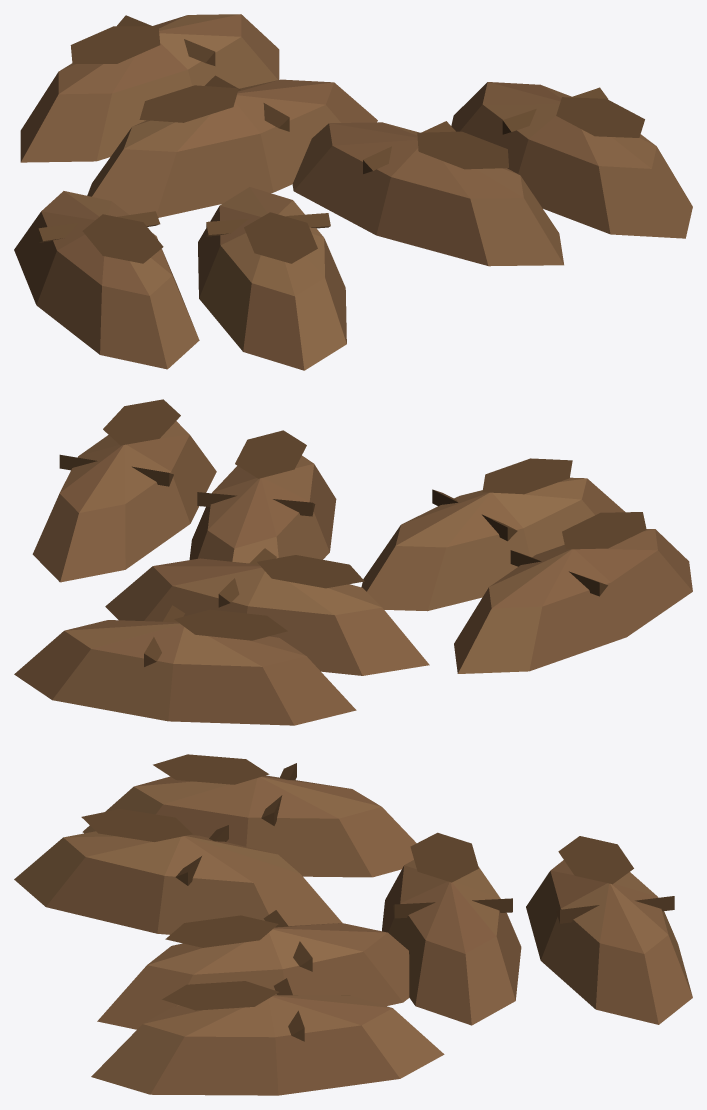
File: storage_hide_footwear.glb
3 views of the same model, one above another, from view 1: azimuth 30°, elevation 25°; view 2: azimuth 150°, elevation 25°; view 3: azimuth 270°, elevation 25° (orthographic). The views are drawn at different scales.
Visible parts, largest first — view 1: storage_hide_footwear; view 2: storage_hide_footwear; view 3: storage_hide_footwear.
Part boxes in pixels (<box>): storage_hide_footwear: <box>14,14,692,370</box>; storage_hide_footwear: <box>14,399,692,725</box>; storage_hide_footwear: <box>14,754,692,1095</box>.
Bounding box in the file's own units: 1.11 × 0.135 × 1.14.
